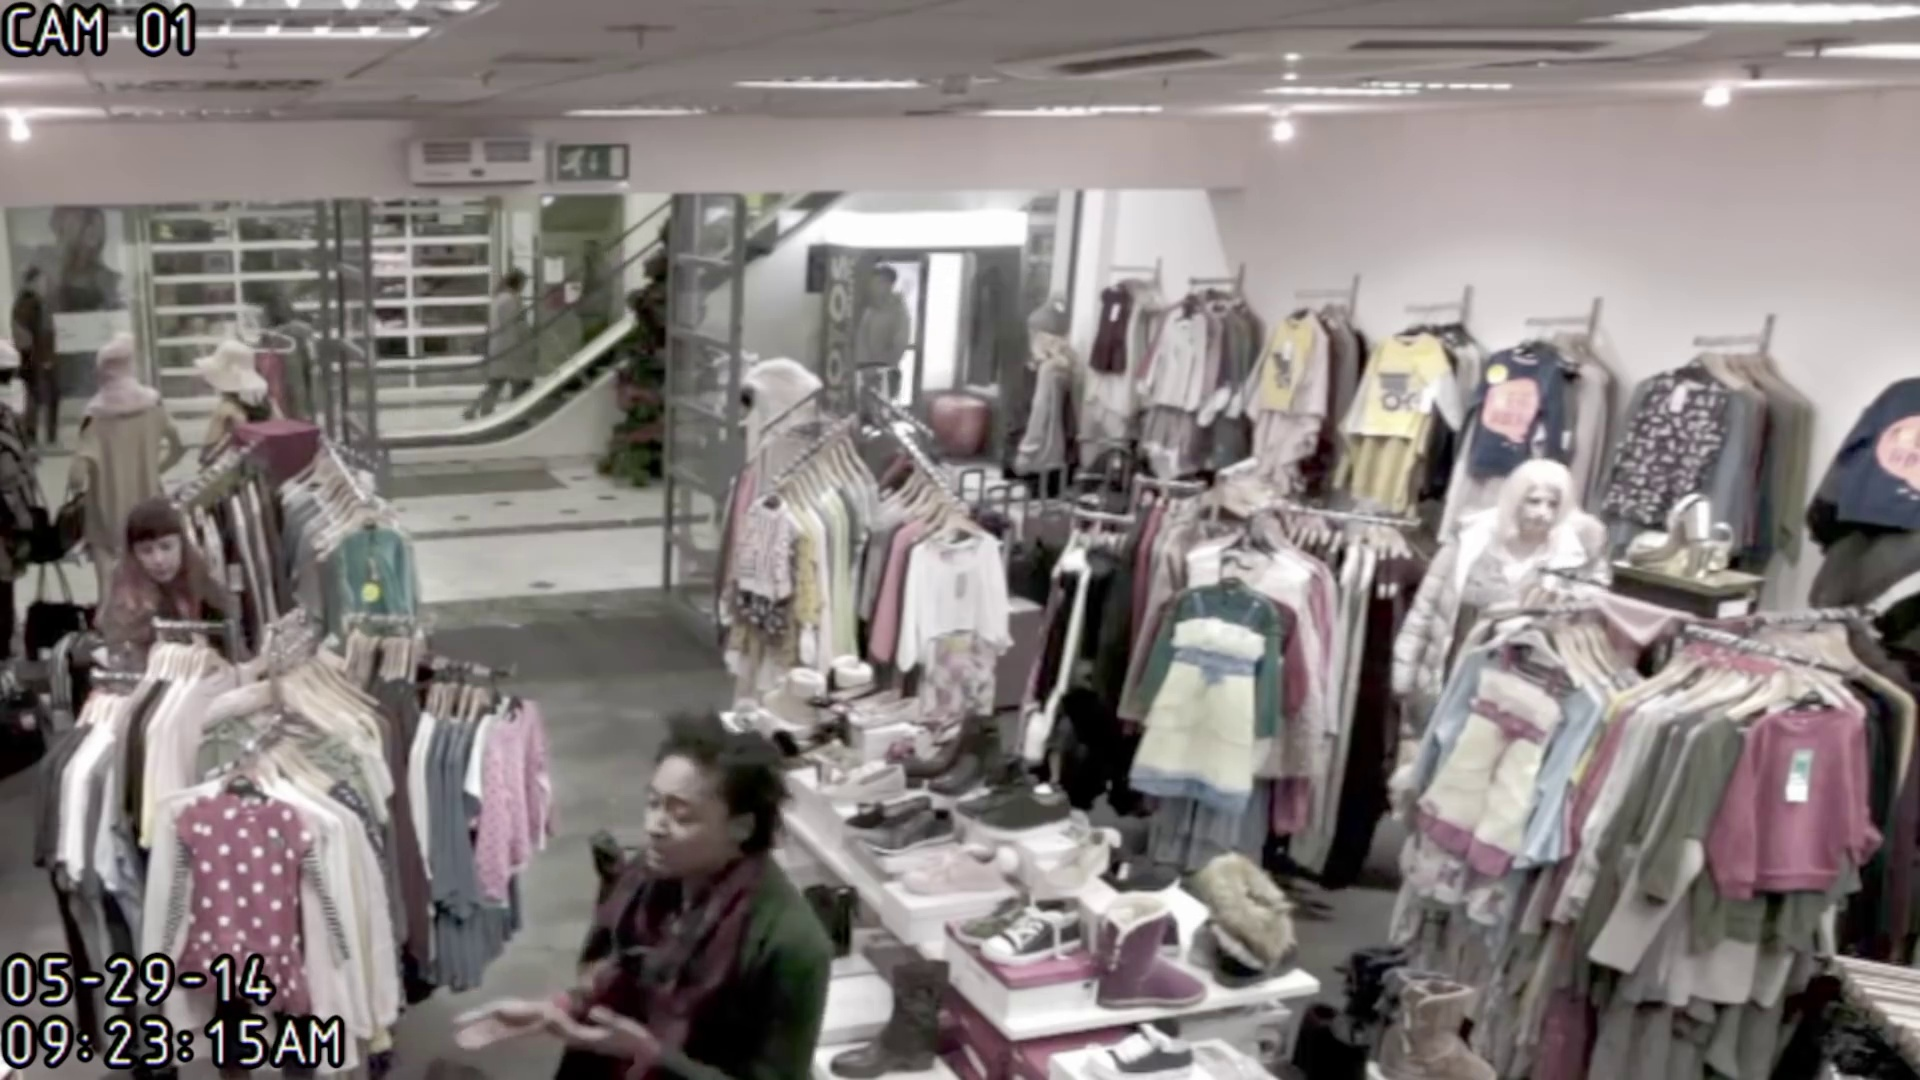face: (625, 769, 732, 892), (138, 527, 189, 584), (1508, 487, 1559, 540)
